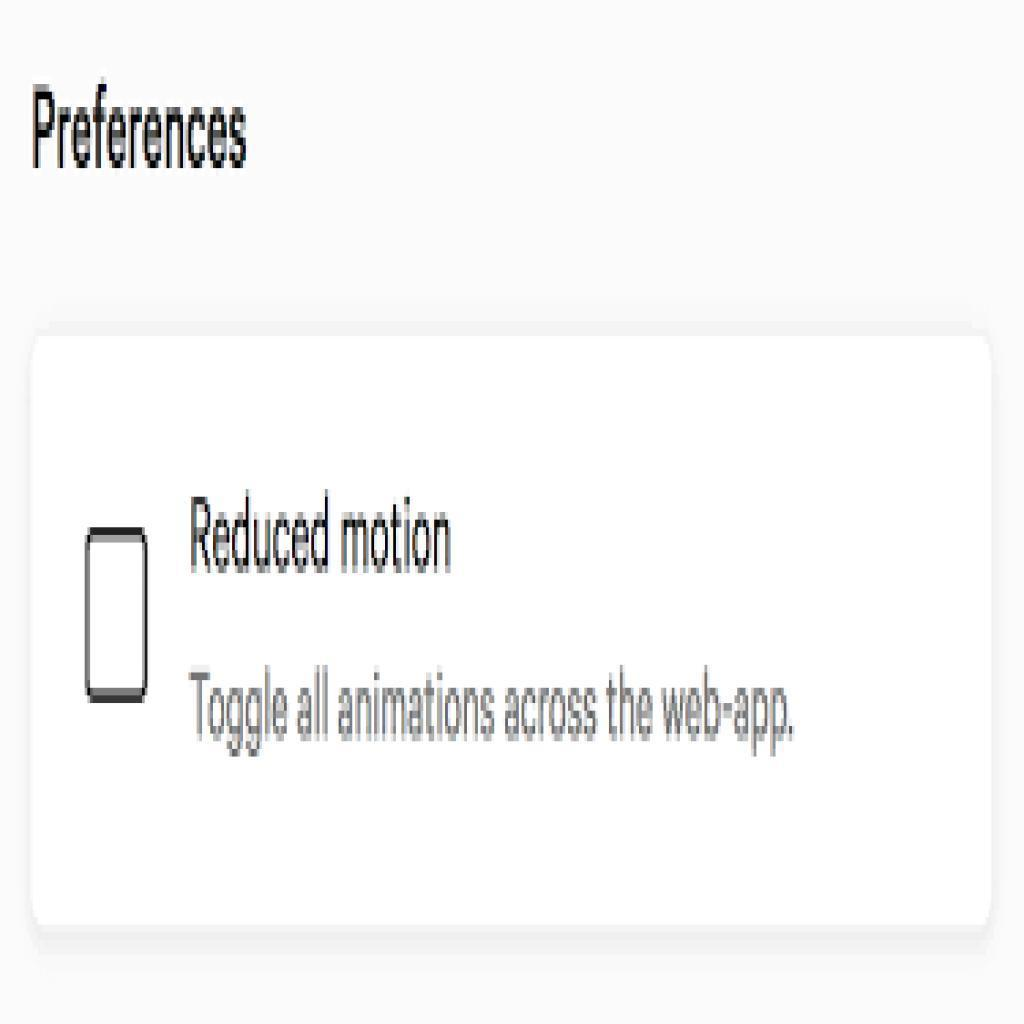checkbox: (88, 530, 148, 693)
label: (182, 663, 802, 753), (186, 491, 458, 578)
